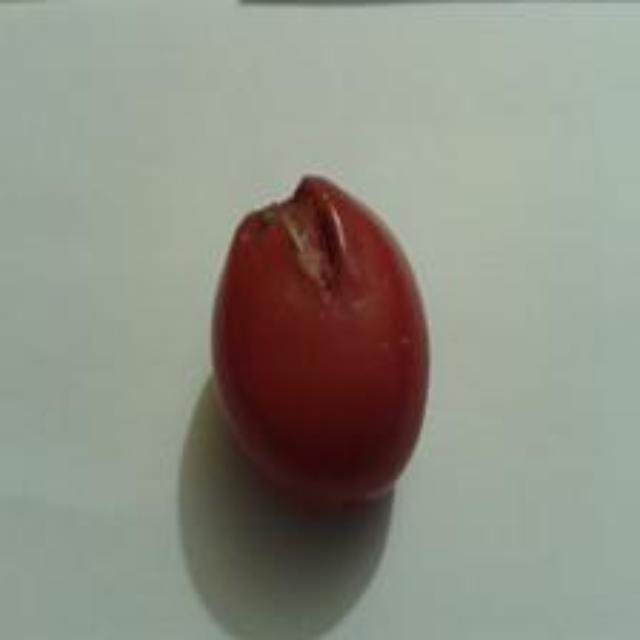defect: (207, 167, 442, 519)
